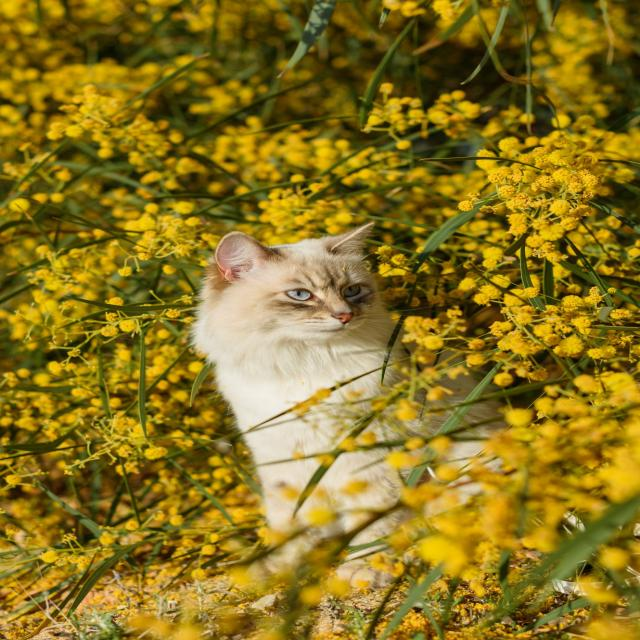Neva Masquerade: (186, 218, 408, 572)
